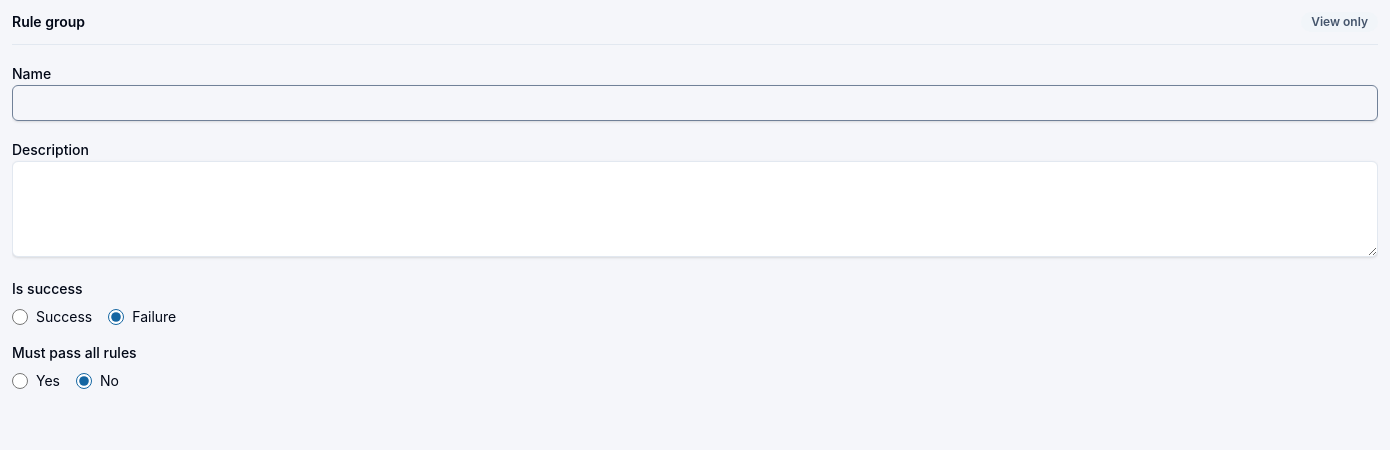
node panel inline validation › shows the rule group name error inline and clears it while typing
The image size is (1390, 450).
Save only appears once the form is dirty, so the description is filled and the name left empty.
Step 1. Type "Checks attendance" into the text box labelled "Description" → point(695, 209), box [12,161,1378,257]
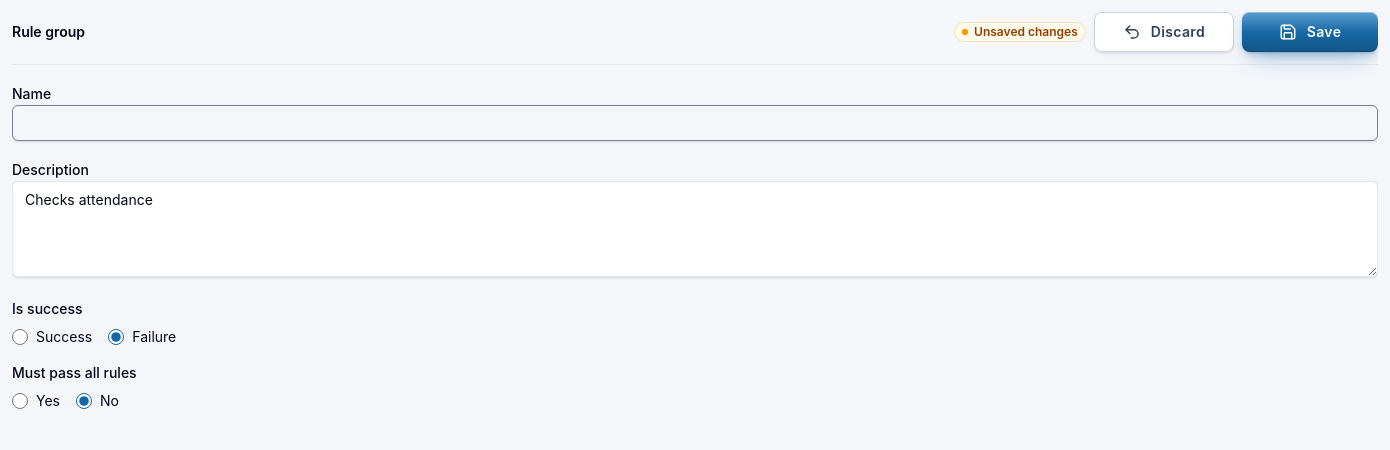
Step 2. Click the button "Save" → point(1310, 32), box [1242,12,1378,52]
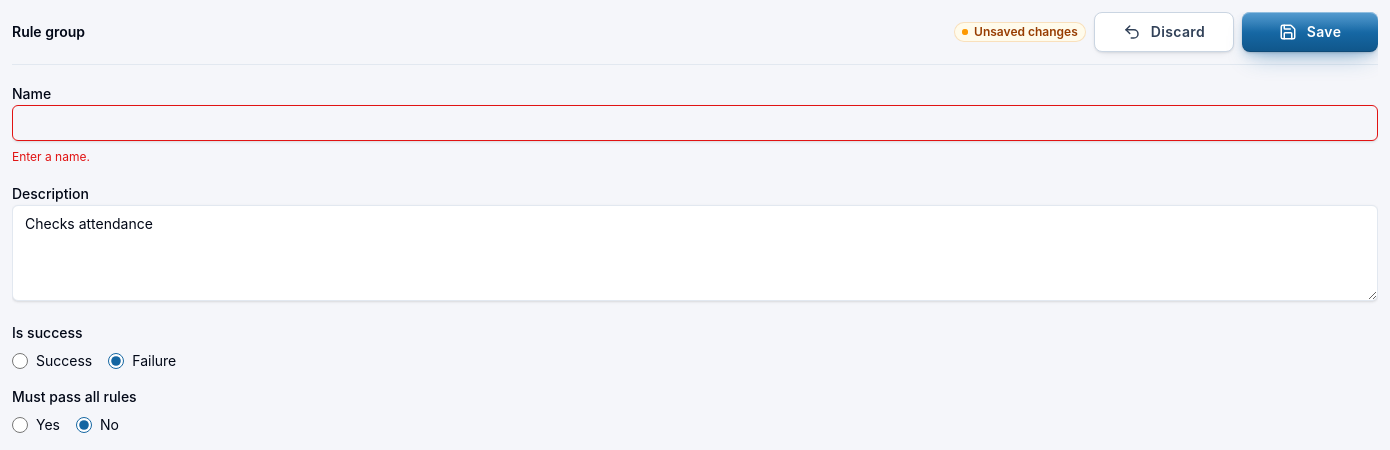
Expected: the text "Enter a name." is shown, [12,149,90,164]
Step 3. Type "Attendance group" into the field labelled "Name" → point(695, 123), box [12,105,1378,141]
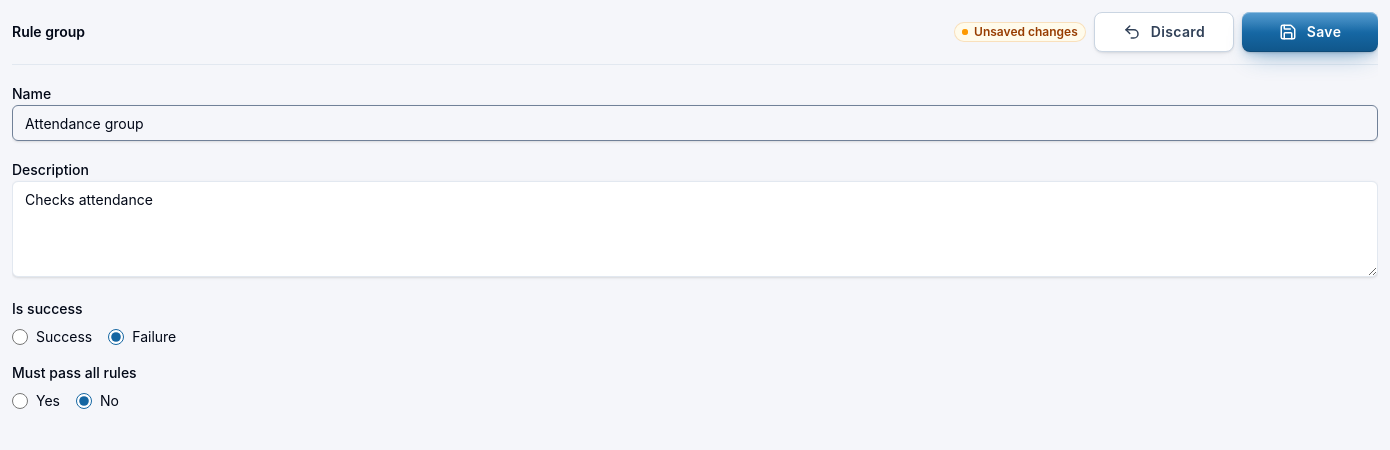
Expected: the text "Enter a name." is gone
